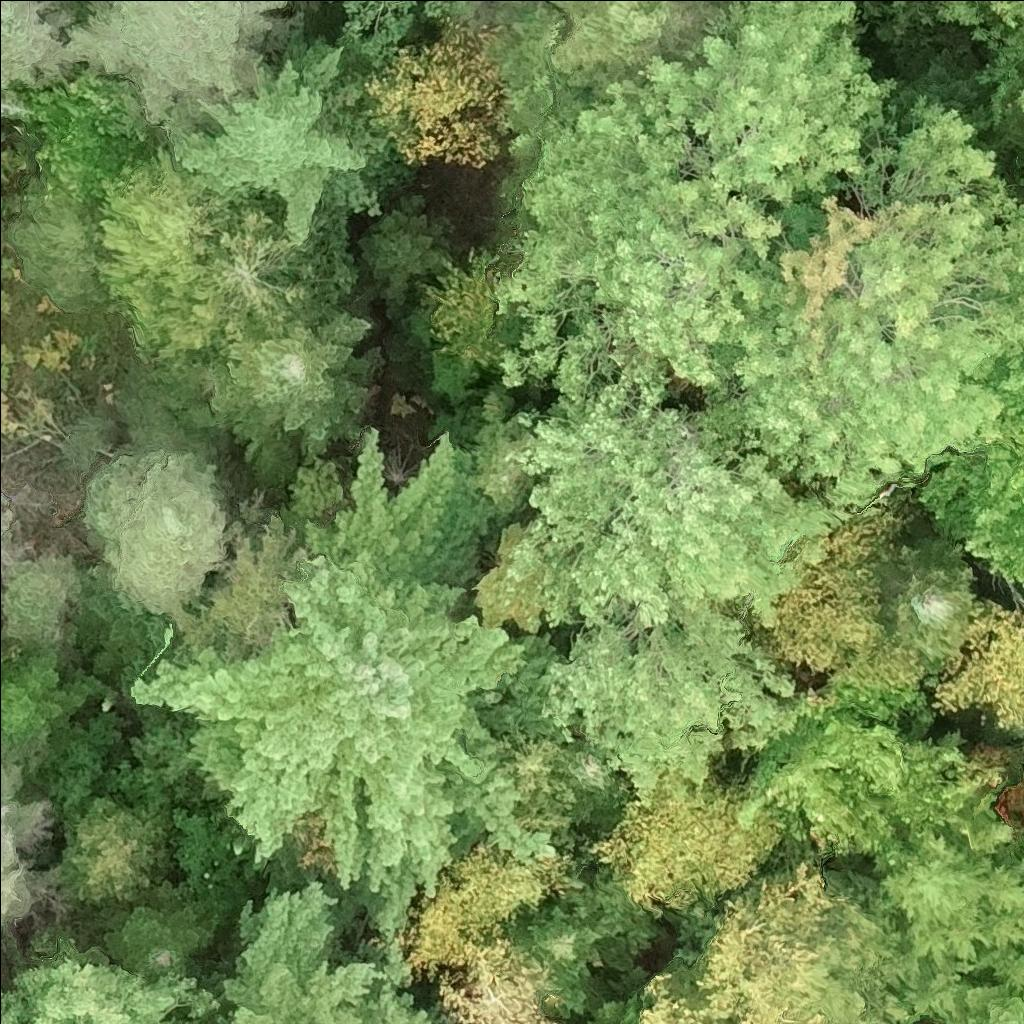crown: (128, 426, 565, 945), (490, 0, 901, 418), (729, 93, 1023, 497), (508, 369, 856, 637), (538, 602, 814, 808), (162, 29, 395, 246), (730, 704, 1023, 856), (191, 306, 374, 506), (222, 874, 448, 1023), (734, 496, 922, 675), (868, 823, 1023, 1023), (65, 0, 303, 130), (404, 842, 583, 1008), (96, 148, 232, 362), (584, 775, 787, 918), (675, 856, 842, 1023), (79, 446, 240, 614), (914, 365, 1023, 589), (198, 200, 360, 343), (463, 505, 589, 654), (544, 0, 727, 102), (881, 531, 989, 673), (0, 955, 223, 1023), (0, 727, 67, 945), (6, 179, 109, 313), (428, 390, 533, 520), (807, 901, 915, 1023), (503, 894, 609, 1012), (934, 599, 1023, 735), (96, 879, 220, 976), (934, 0, 1023, 129), (0, 646, 115, 739), (433, 939, 556, 1023), (0, 549, 82, 656), (549, 736, 638, 830), (334, 0, 459, 63), (0, 0, 79, 91), (941, 978, 1023, 1023), (637, 972, 708, 1023), (0, 638, 22, 672), (0, 488, 12, 548), (890, 0, 924, 10), (290, 0, 330, 7)
